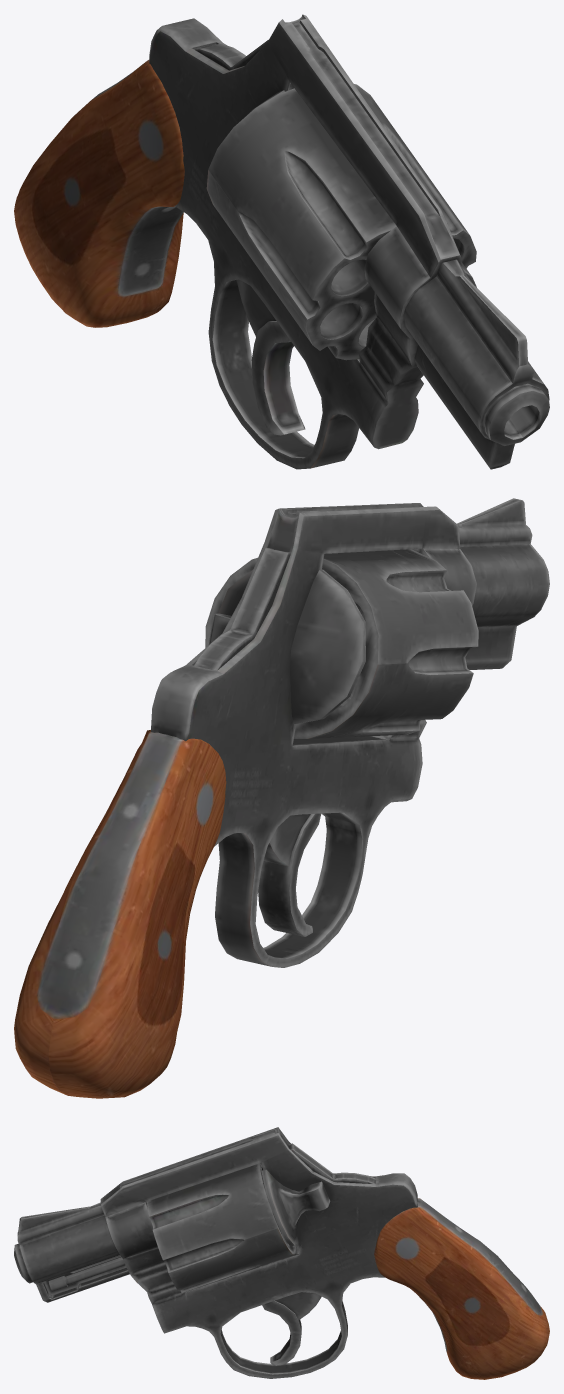
File: revolver.glb
3 views of the same model, one above another, from view 1: azimuth 30°, elevation 25°; view 2: azimuth 150°, elevation 25°; view 3: azimuth 270°, elevation 25° (orthographic). The views are drawn at different scales.
Visible parts, largest first — view 1: Revolver13_low, Revolver5_low, Revolver12_low, Revolver4_low, Revolver3_low, Revolver2_low, Revolver15_low; view 2: Revolver13_low, Revolver5_low, Revolver12_low, Revolver4_low, Revolver17_low, Revolver15_low, Revolver3_low, Revolver2_low, Revolver14_low; view 3: Revolver13_low, Revolver5_low, Revolver12_low, Revolver4_low, Revolver14_low, Revolver3_low, Revolver15_low, Revolver16_low, Revolver2_low.
Part boxes in pixels (<box>): Revolver13_low: <box>149,14,476,469</box>; Revolver5_low: <box>14,60,184,327</box>; Revolver12_low: <box>206,84,476,360</box>; Revolver4_low: <box>403,259,549,469</box>; Revolver3_low: <box>251,321,305,435</box>; Revolver2_low: <box>236,279,276,336</box>; Revolver15_low: <box>194,39,268,70</box>; Revolver13_low: <box>150,503,476,967</box>; Revolver5_low: <box>14,730,226,1098</box>; Revolver12_low: <box>205,549,478,738</box>; Revolver4_low: <box>457,498,549,669</box>; Revolver17_low: <box>290,569,365,724</box>; Revolver15_low: <box>194,548,290,670</box>; Revolver3_low: <box>258,813,321,936</box>; Revolver2_low: <box>263,814,310,866</box>; Revolver14_low: <box>208,570,252,644</box>; Revolver13_low: <box>100,1127,417,1378</box>; Revolver5_low: <box>374,1198,549,1379</box>; Revolver12_low: <box>146,1163,296,1293</box>; Revolver4_low: <box>14,1202,129,1302</box>; Revolver14_low: <box>261,1169,330,1246</box>; Revolver3_low: <box>262,1300,301,1365</box>; Revolver15_low: <box>289,1143,375,1184</box>; Revolver16_low: <box>48,1257,125,1291</box>; Revolver2_low: <box>275,1292,321,1320</box>.
Bounding box in the file's own units: 0.0349 × 0.0861 × 0.17.
1 material, 1 textured.
